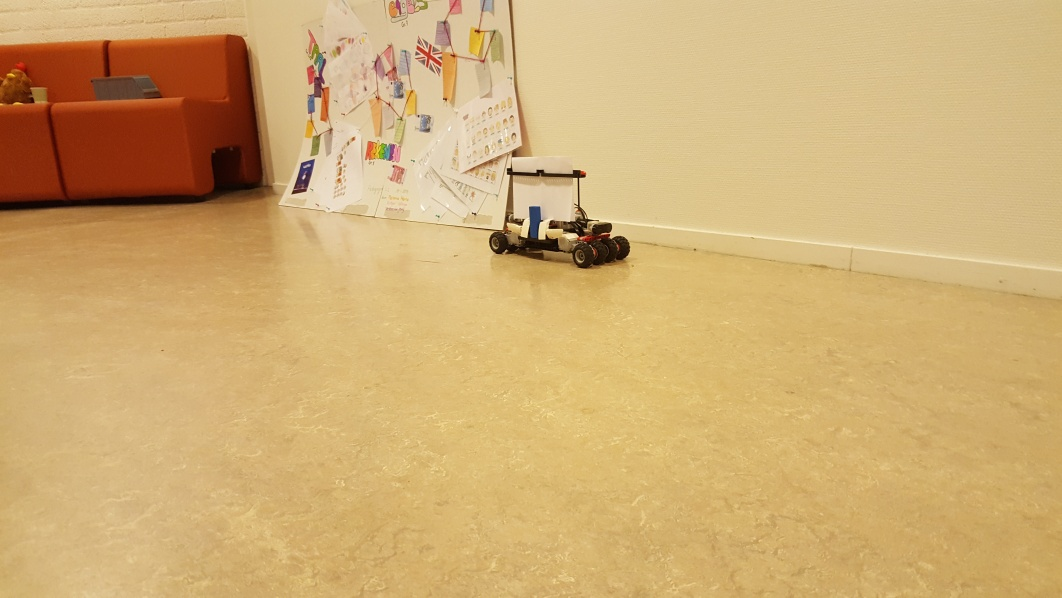car: (487, 154, 631, 269)
